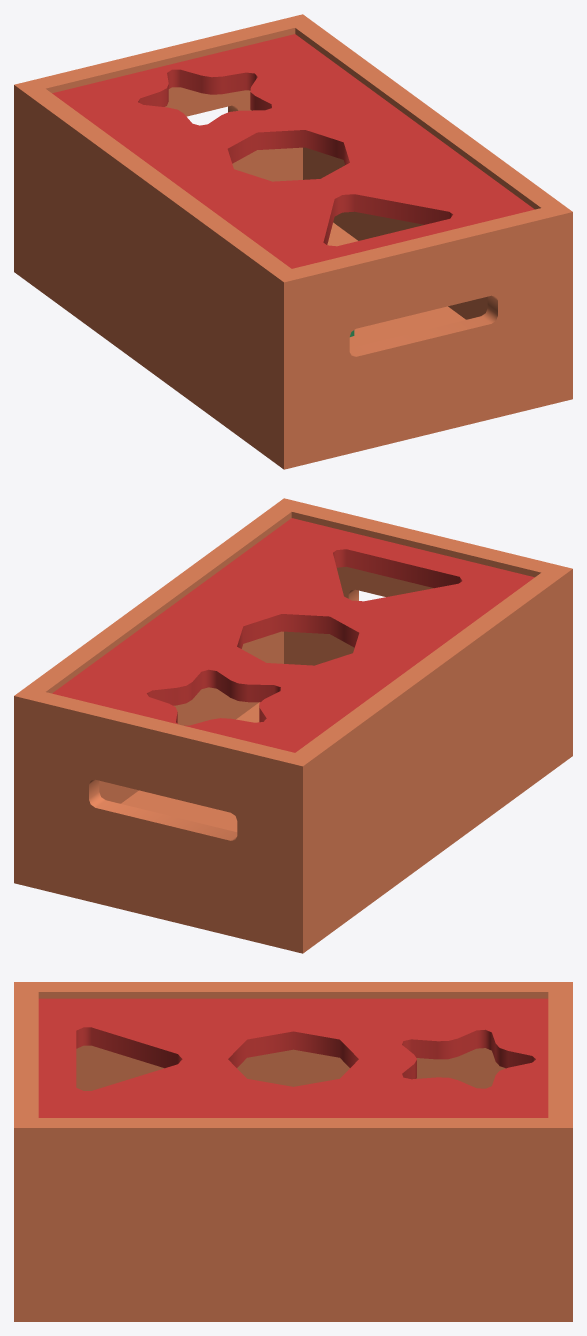
File: SortingCube_01.fbx
3 renders of one model, top to bottom at view 1: azimuth 30°, elevation 25°; view 2: azimuth 150°, elevation 25°; view 3: azimuth 270°, elevation 25°, orthographic. The views are drawn at different scales.
Parts seen in each view (by area): view 1: SortingCube_01; view 2: SortingCube_01; view 3: SortingCube_01.
Boxes of the visible parts, x1,y1,x2,y2 form: SortingCube_01: (14, 14, 572, 469); SortingCube_01: (14, 498, 572, 953); SortingCube_01: (14, 982, 572, 1321).
Bounding box in the file's own units: 0.2304 × 0.1427 × 0.373.
